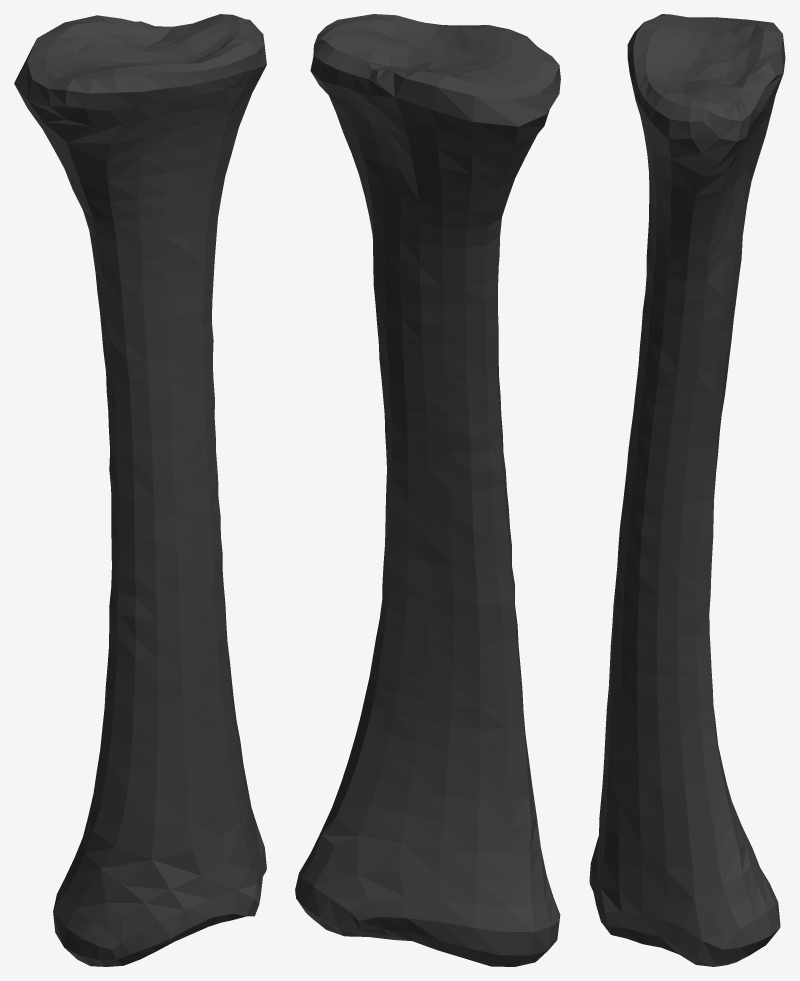
File: LFL_main.glb
The picture shows the model from 3 angles, left to right: view 1: azimuth 30°, elevation 25°; view 2: azimuth 150°, elevation 25°; view 3: azimuth 270°, elevation 25°; orthographic projection. The views are drawn at different scales.
Parts seen in each view (by area): view 1: LFL_main; view 2: LFL_main; view 3: LFL_main.
Part boxes in pixels (bbox=[...]): LFL_main: bbox=[14, 14, 266, 966]; LFL_main: bbox=[295, 14, 560, 966]; LFL_main: bbox=[589, 14, 785, 966].
Bounding box in the file's own units: 17.2 × 61.8 × 12.38.
Materials: 1 (1 with a texture image).
